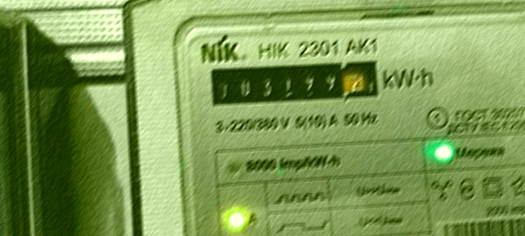0: (215, 77, 229, 99), (238, 74, 252, 95)
1: (282, 71, 294, 90)
3: (261, 75, 273, 95)
6: (350, 76, 361, 93)
9: (303, 70, 316, 90), (324, 70, 337, 90)
screen: (203, 48, 389, 118)
